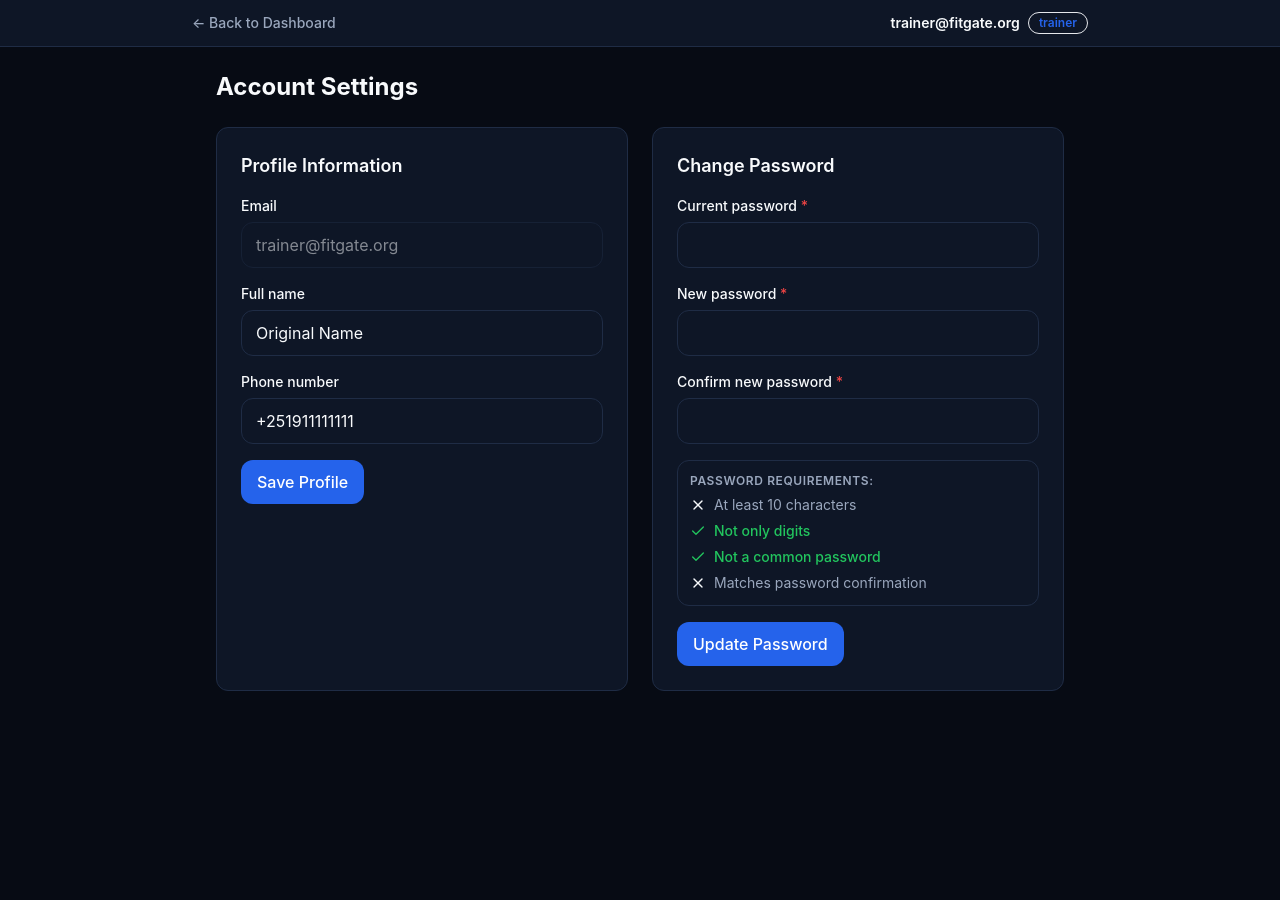
Test: ProfileScreen › loads and displays user profile and allows editing name and phone
The width and height of the screenshot is (1280, 900).
expect the field showing "+251911111111" is shown: met, box 241,398 -> 603,444
Replace the text in the field labelled "Full name" with "Updated Name" at (422, 333), box 241,310 -> 603,356
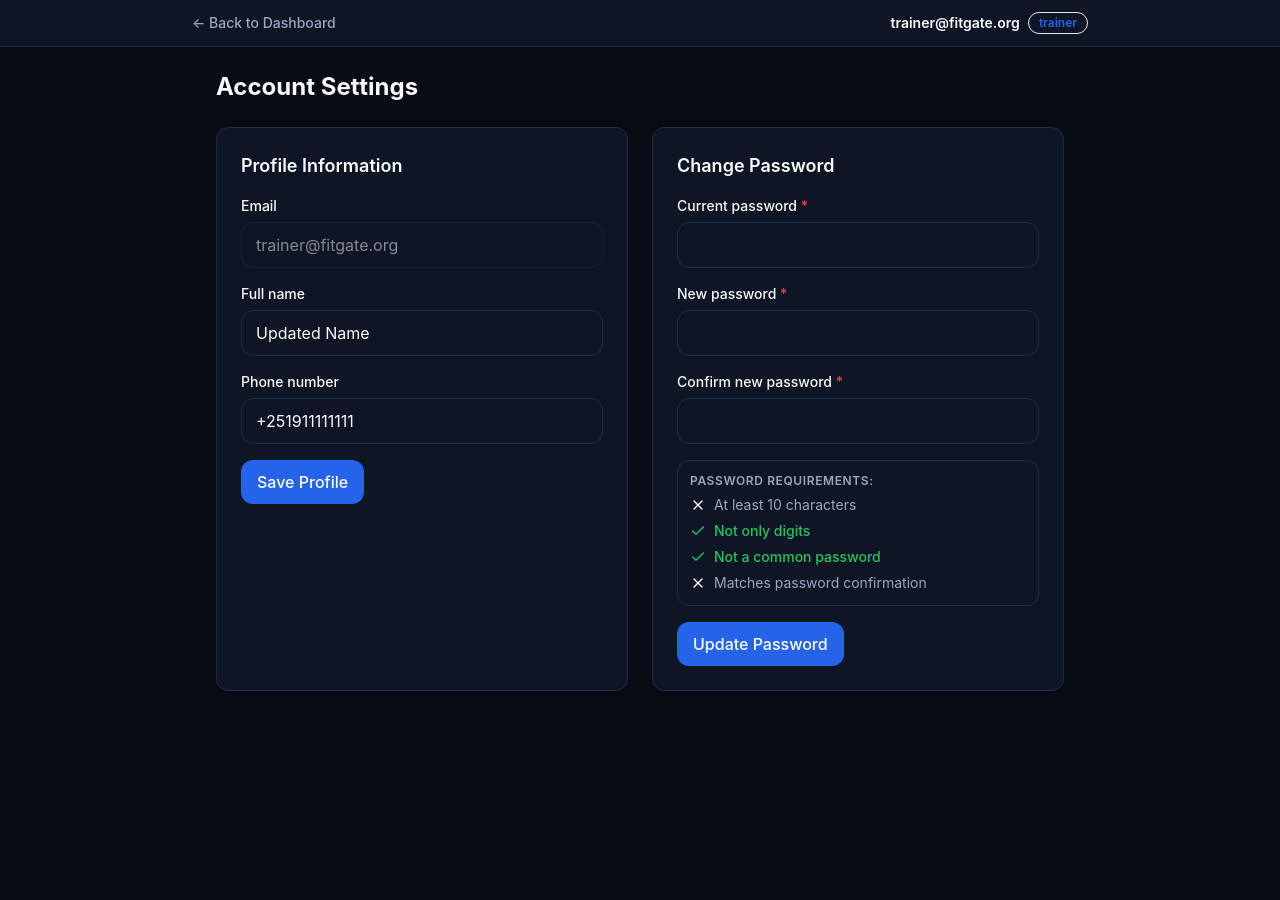
Replace the text in the field labelled "Phone number" with "+251922222222" at (422, 421), box 241,398 -> 603,444
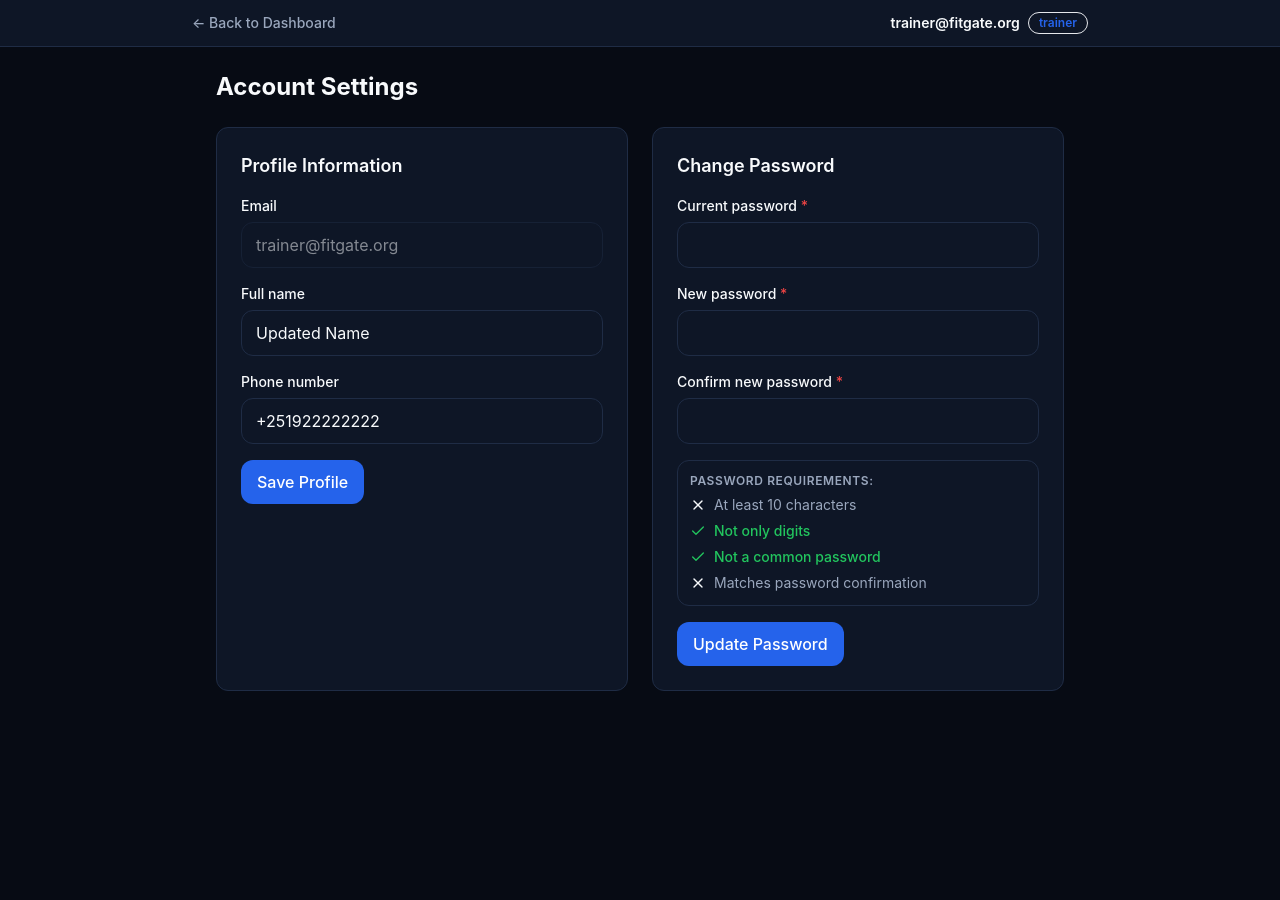
Click the button "Save Profile".
click(303, 482)  # box 241,460 -> 364,504
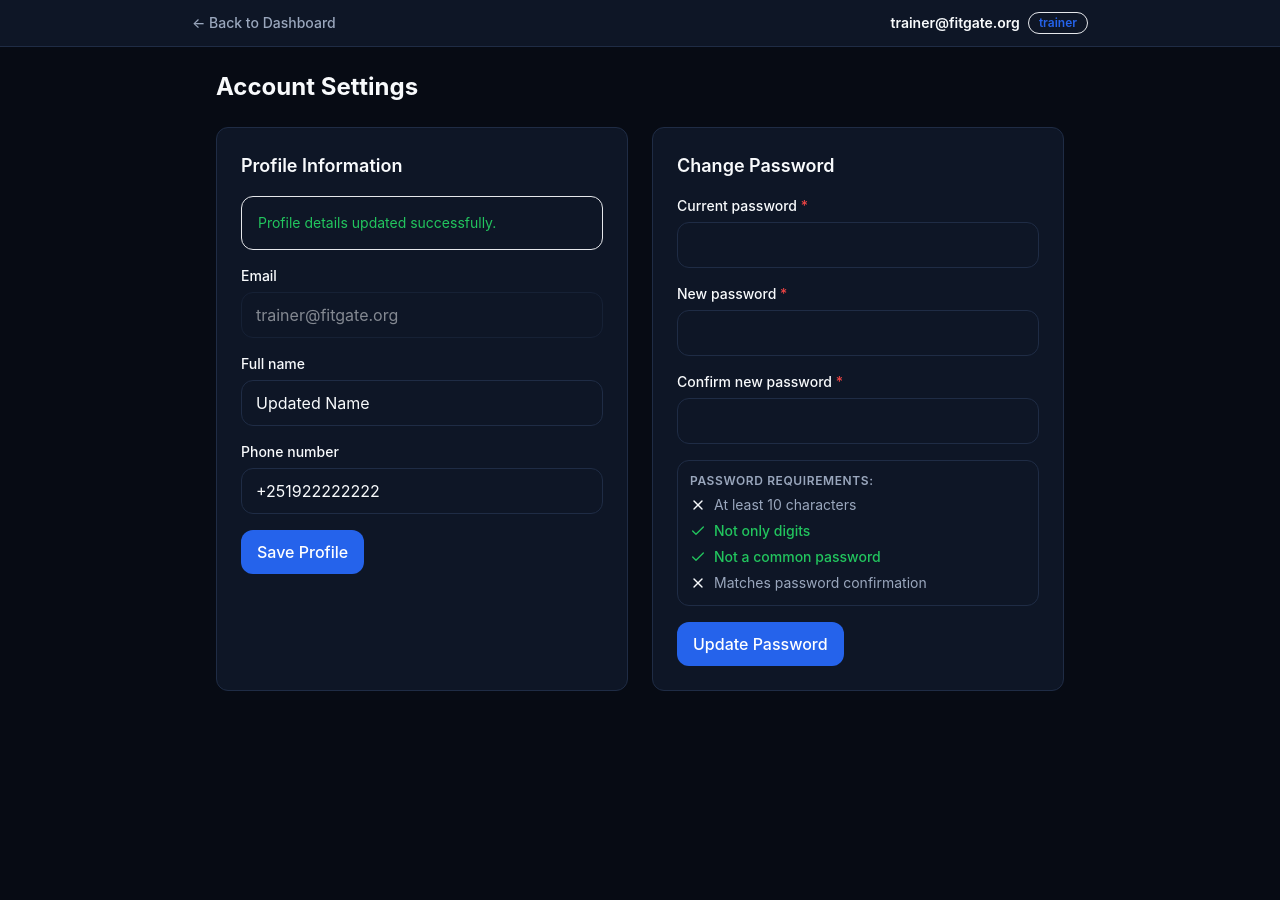
expect the text "Profile details updated successfully." is shown: met, box 258,214 -> 496,231
